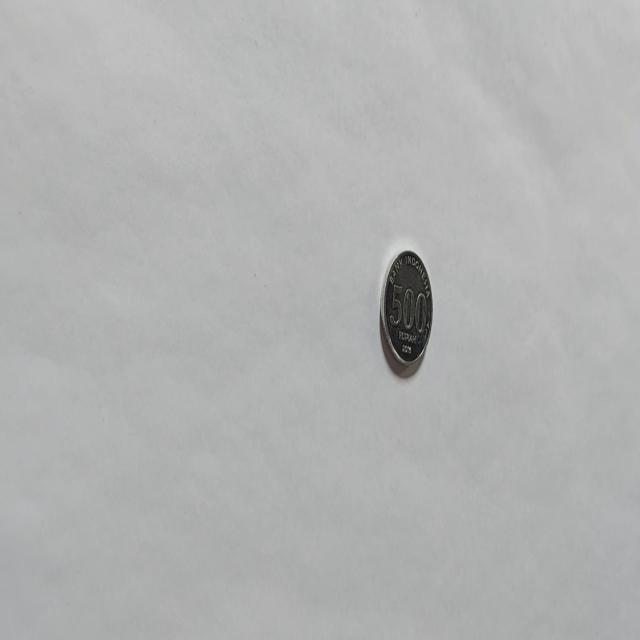lima ratus rupiah: (378, 248, 434, 377)
